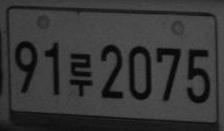0: (127, 45, 152, 101)
1: (42, 41, 66, 95)
2: (99, 43, 124, 98)
5: (186, 48, 211, 104)
7: (155, 46, 182, 101)
9: (13, 40, 38, 93)
루: (69, 52, 93, 97)
